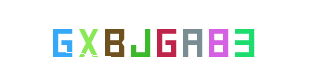3: (177, 0, 257, 80)
8: (164, 0, 244, 80)
A: (152, 0, 232, 80)
B: (74, 0, 154, 80)
G: (21, 0, 101, 80), (126, 0, 206, 80)
J: (114, 0, 194, 80)
X: (50, 0, 130, 80)
